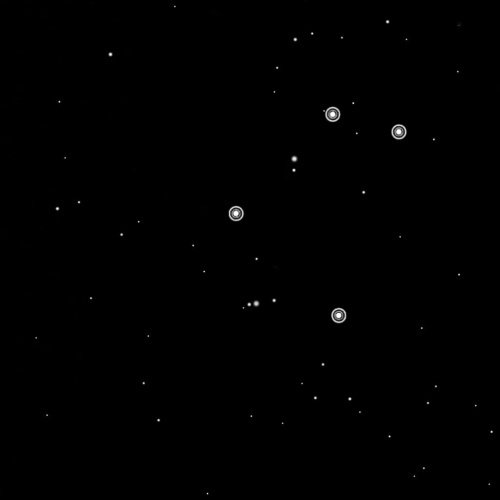coma_berenices: (219, 97, 415, 330)
